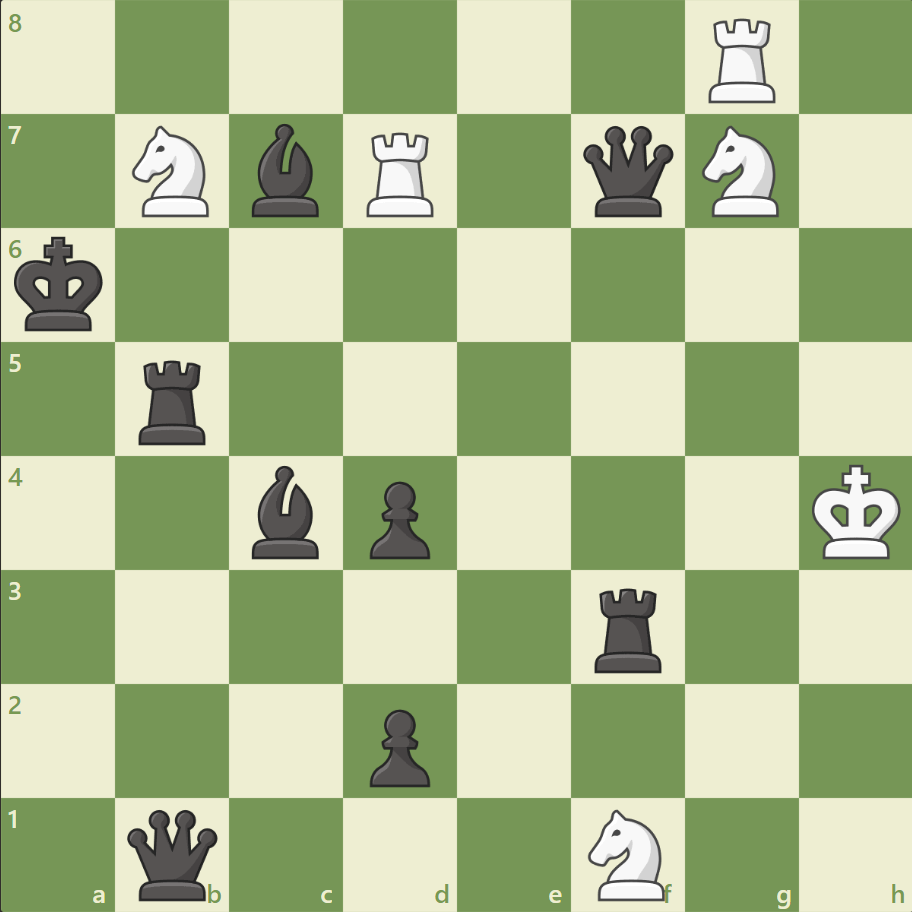K: (806, 458, 906, 566)
N: (124, 121, 222, 223), (692, 121, 789, 223), (579, 802, 676, 904)
R: (700, 12, 783, 109), (360, 125, 442, 222)
b: (244, 460, 328, 563), (244, 120, 328, 222)
k: (11, 231, 111, 339)
p: (361, 473, 435, 564), (361, 700, 435, 791)
q: (578, 122, 677, 222), (124, 804, 223, 903)
r: (587, 579, 670, 676), (133, 352, 215, 449)
